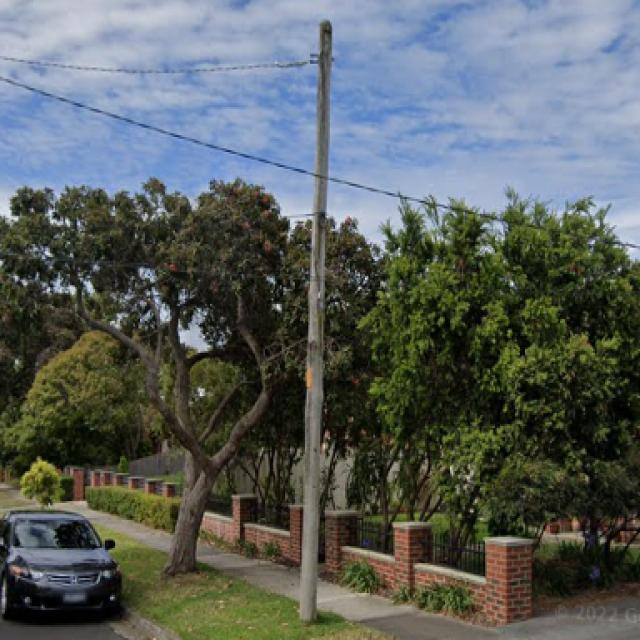timber-pole: (298, 19, 334, 624)
